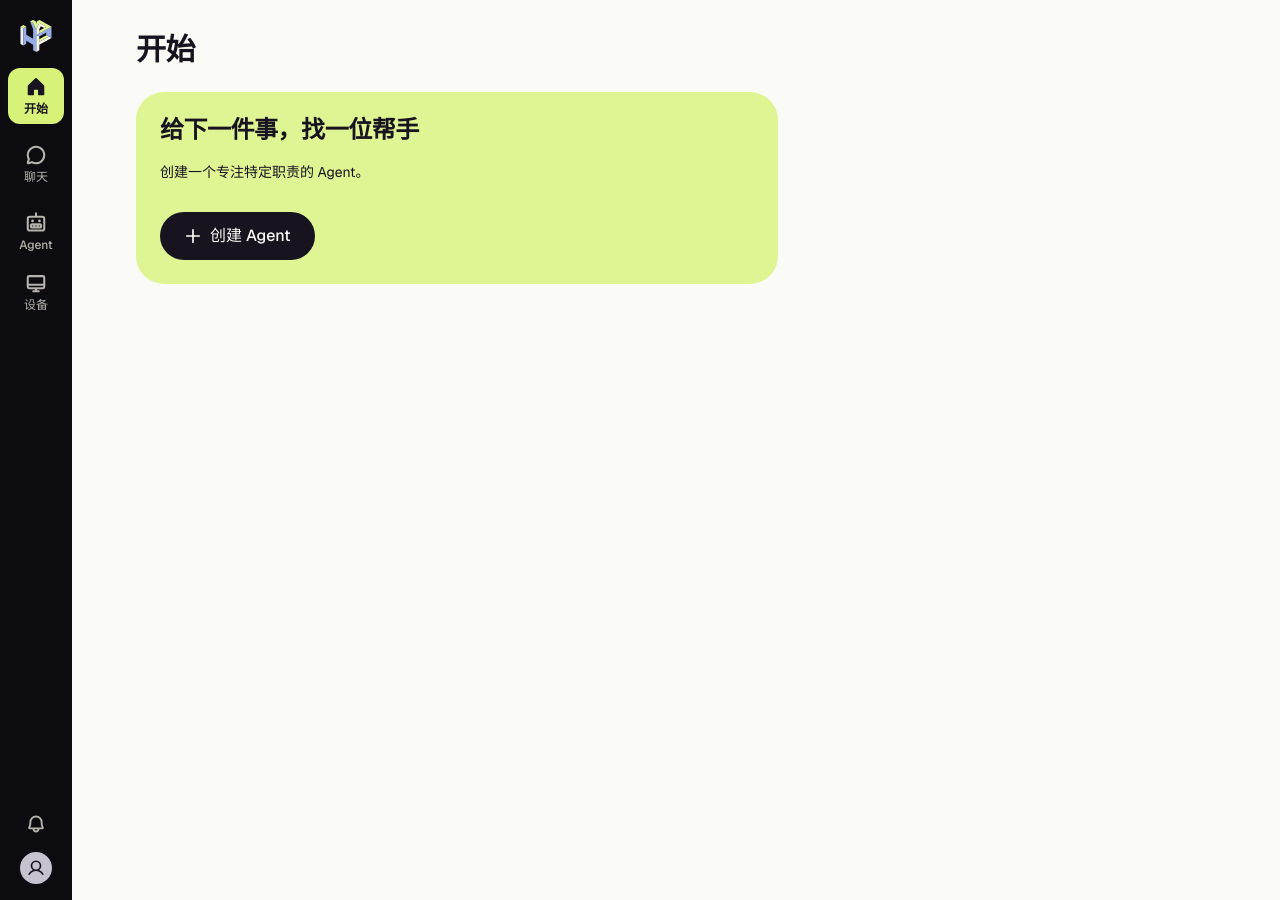
Test case: safe R1 product surface › does not present local test agents or messages as real product state
The image size is (1280, 900).
Click the button "聊天" at (36, 164), box 8,136 -> 64,192
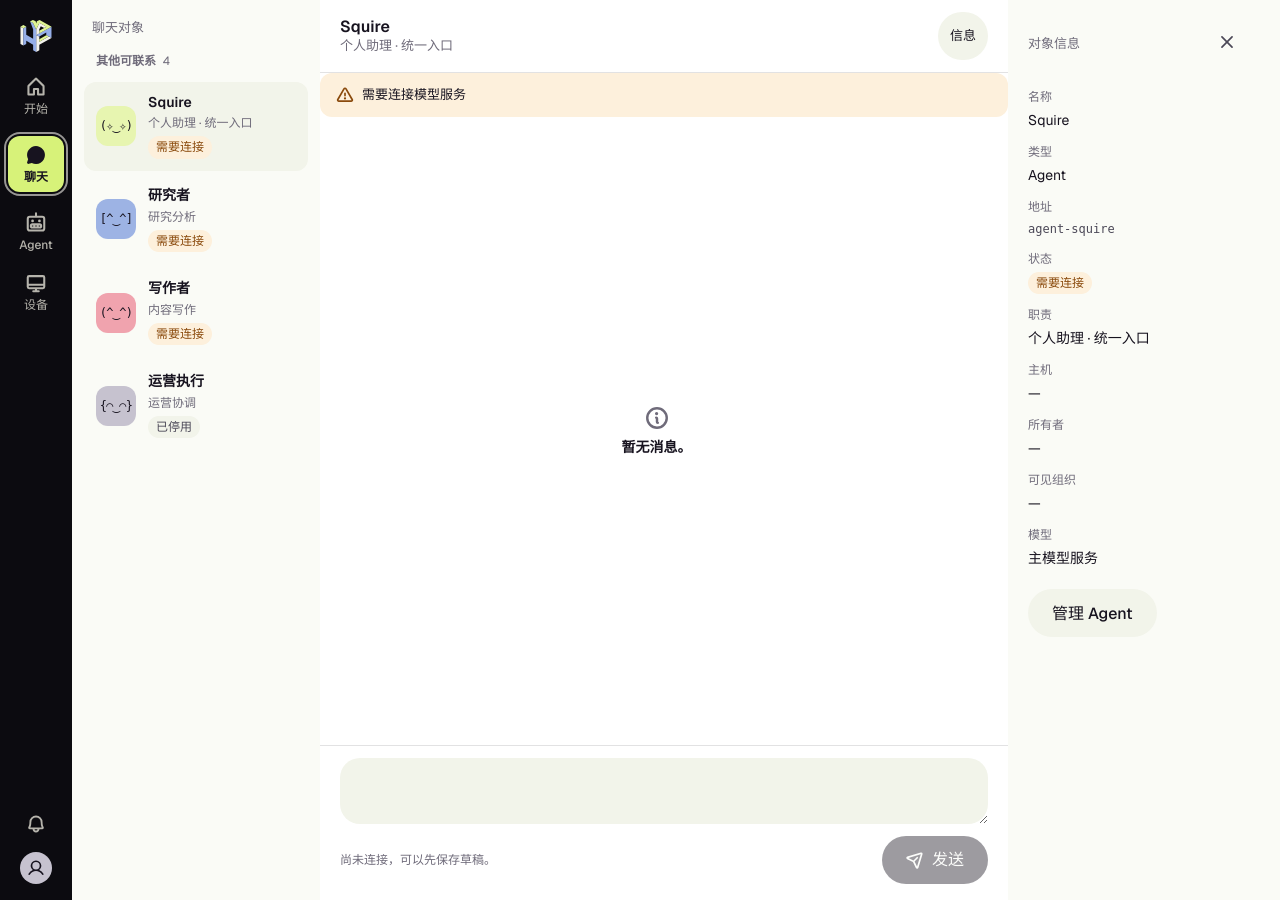
expect the text "尚未连接，可以先保存草稿。" is shown: met, box 340,851 -> 496,869
expect the element showing "需要连接模型服务" is shown: met, box 320,73 -> 1008,116
